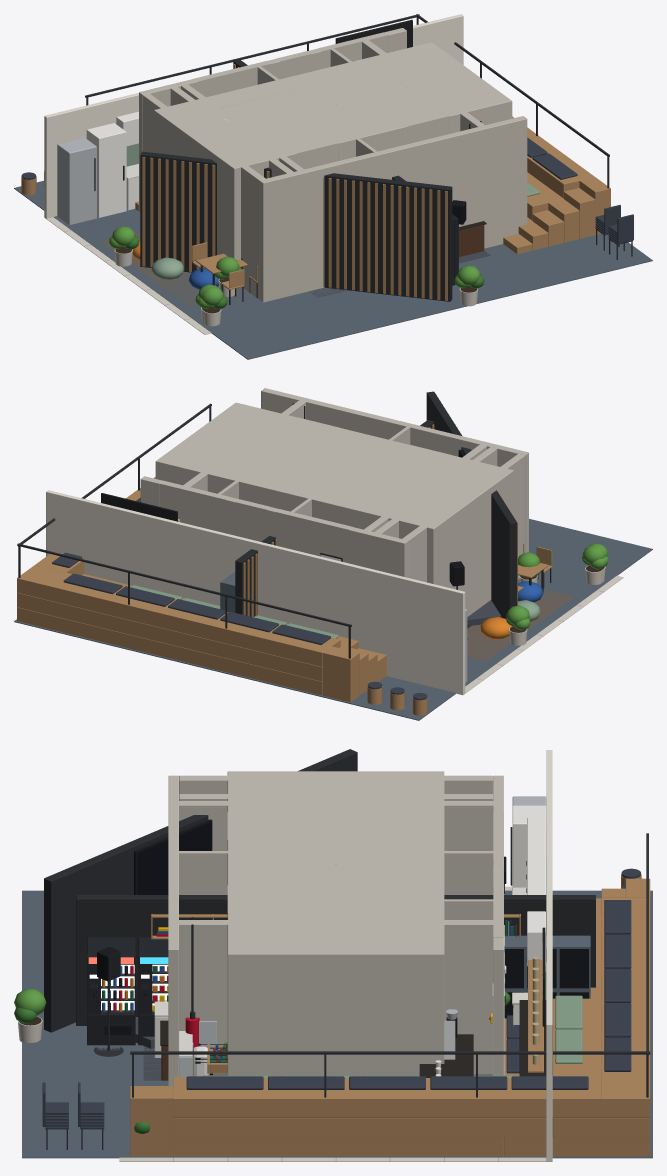
The model's file is office.glb.
3 views of the same model, one above another, from view 1: azimuth 30°, elevation 25°; view 2: azimuth 150°, elevation 25°; view 3: azimuth 270°, elevation 25° (orthographic). The views are drawn at different scales.
Parts seen in each view (by area): view 1: lift_core_core_wall, town_hall_hall_carpet, town_hall_oak, town_hall_media_wall, plant_room_core_wall, toilets_core_wall, stairwell_core_wall, kitchen_kitchen_wall, kitchen_cabinet, kitchen_alu, town_hall_steel, town_hall_upholstery (+9 smaller); view 2: kitchen_kitchen_wall, lift_core_core_wall, town_hall_oak, toilets_core_wall, plant_room_core_wall, town_hall_hall_carpet, server_room_core_wall, town_hall_media_wall, town_hall_upholstery, stairwell_core_wall, town_hall_steel, breakout_rug (+8 smaller); view 3: lift_core_core_wall, town_hall_oak, town_hall_hall_carpet, stairwell_core_wall, town_hall_upholstery, toilets_core_wall, arrival_hub_media_wall, town_hall_media_wall, arrival_hub_vend_body, kitchen_cabinet, town_hall_steel, plant_room_core_wall (+14 smaller).
Part boxes in pixels (<box>): lift_core_core_wall: <box>154,42,512,260</box>; town_hall_hall_carpet: <box>14,180,652,359</box>; town_hall_oak: <box>21,116,610,300</box>; town_hall_media_wall: <box>140,151,452,301</box>; plant_room_core_wall: <box>170,36,499,295</box>; toilets_core_wall: <box>139,28,527,302</box>; stairwell_core_wall: <box>178,40,488,248</box>; kitchen_kitchen_wall: <box>44,14,463,218</box>; kitchen_cabinet: <box>86,111,138,217</box>; kitchen_alu: <box>57,137,96,224</box>; town_hall_steel: <box>85,14,632,270</box>; town_hall_upholstery: <box>21,137,633,244</box>; kitchen_kitchen_wall: <box>46,490,465,694</box>; lift_core_core_wall: <box>155,402,513,616</box>; town_hall_oak: <box>17,394,517,715</box>; toilets_core_wall: <box>140,388,528,582</box>; plant_room_core_wall: <box>168,395,500,569</box>; town_hall_hall_carpet: <box>14,519,652,720</box>; server_room_core_wall: <box>169,487,379,569</box>; town_hall_media_wall: <box>426,391,517,618</box>; town_hall_upholstery: <box>52,498,427,700</box>; stairwell_core_wall: <box>179,397,486,566</box>; town_hall_steel: <box>17,403,468,658</box>; breakout_rug: <box>467,589,573,660</box>; lift_core_core_wall: <box>227,771,444,1076</box>; town_hall_oak: <box>130,874,650,1156</box>; town_hall_hall_carpet: <box>22,890,652,1158</box>; stairwell_core_wall: <box>168,801,503,1074</box>; town_hall_upholstery: <box>42,868,640,1129</box>; toilets_core_wall: <box>168,775,503,1086</box>; arrival_hub_media_wall: <box>76,895,595,1025</box>; town_hall_media_wall: <box>44,749,357,1032</box>; arrival_hub_vend_body: <box>87,937,168,1045</box>; kitchen_cabinet: <box>512,805,546,1024</box>; town_hall_steel: <box>46,833,650,1149</box>; plant_room_core_wall: <box>168,794,503,930</box>.
Bounding box in the file's own units: 12 × 3.37 × 11.8.
